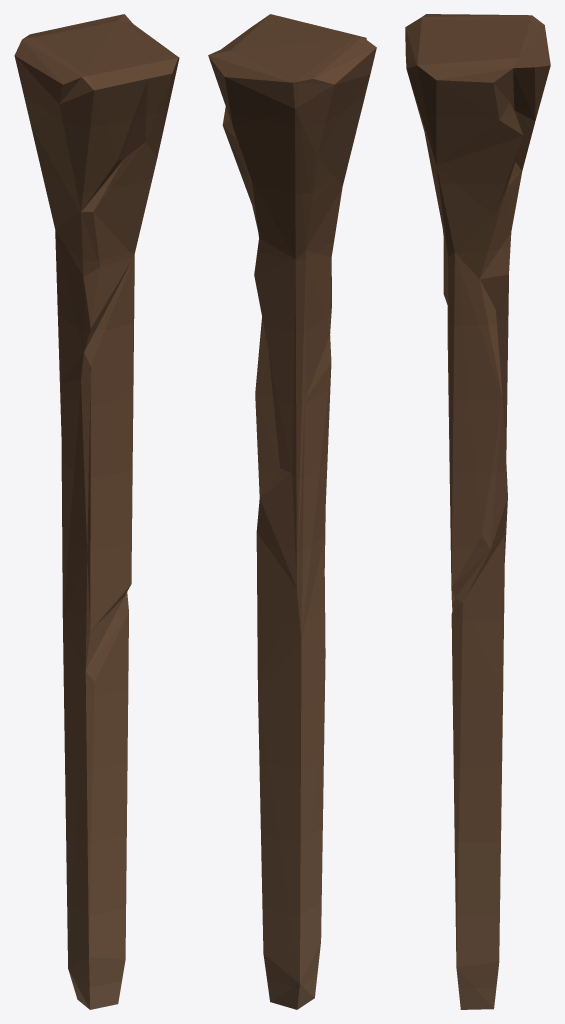
Rendered from 3D_Torch.fbx.
3 renders of one model, left to right at view 1: azimuth 30°, elevation 25°; view 2: azimuth 150°, elevation 25°; view 3: azimuth 270°, elevation 25°, orthographic.
Parts seen in each view (by area): view 1: Torch; view 2: Torch; view 3: Torch.
Boxes of the visible parts, x1,y1,x2,y2 form: Torch: (14, 14, 179, 1009); Torch: (208, 14, 376, 1009); Torch: (405, 14, 550, 1009).
Size of the model in its own units: 9.14 by 67.02 by 9.15.
